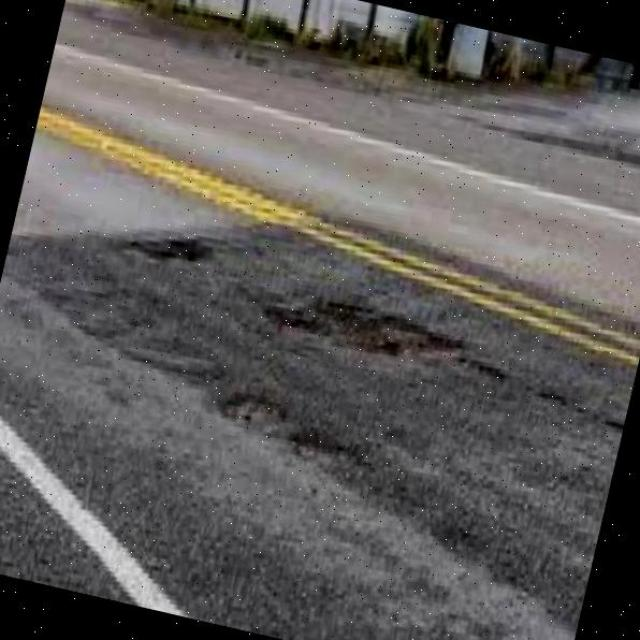pothole: (253, 298, 497, 375), (123, 227, 220, 267)
